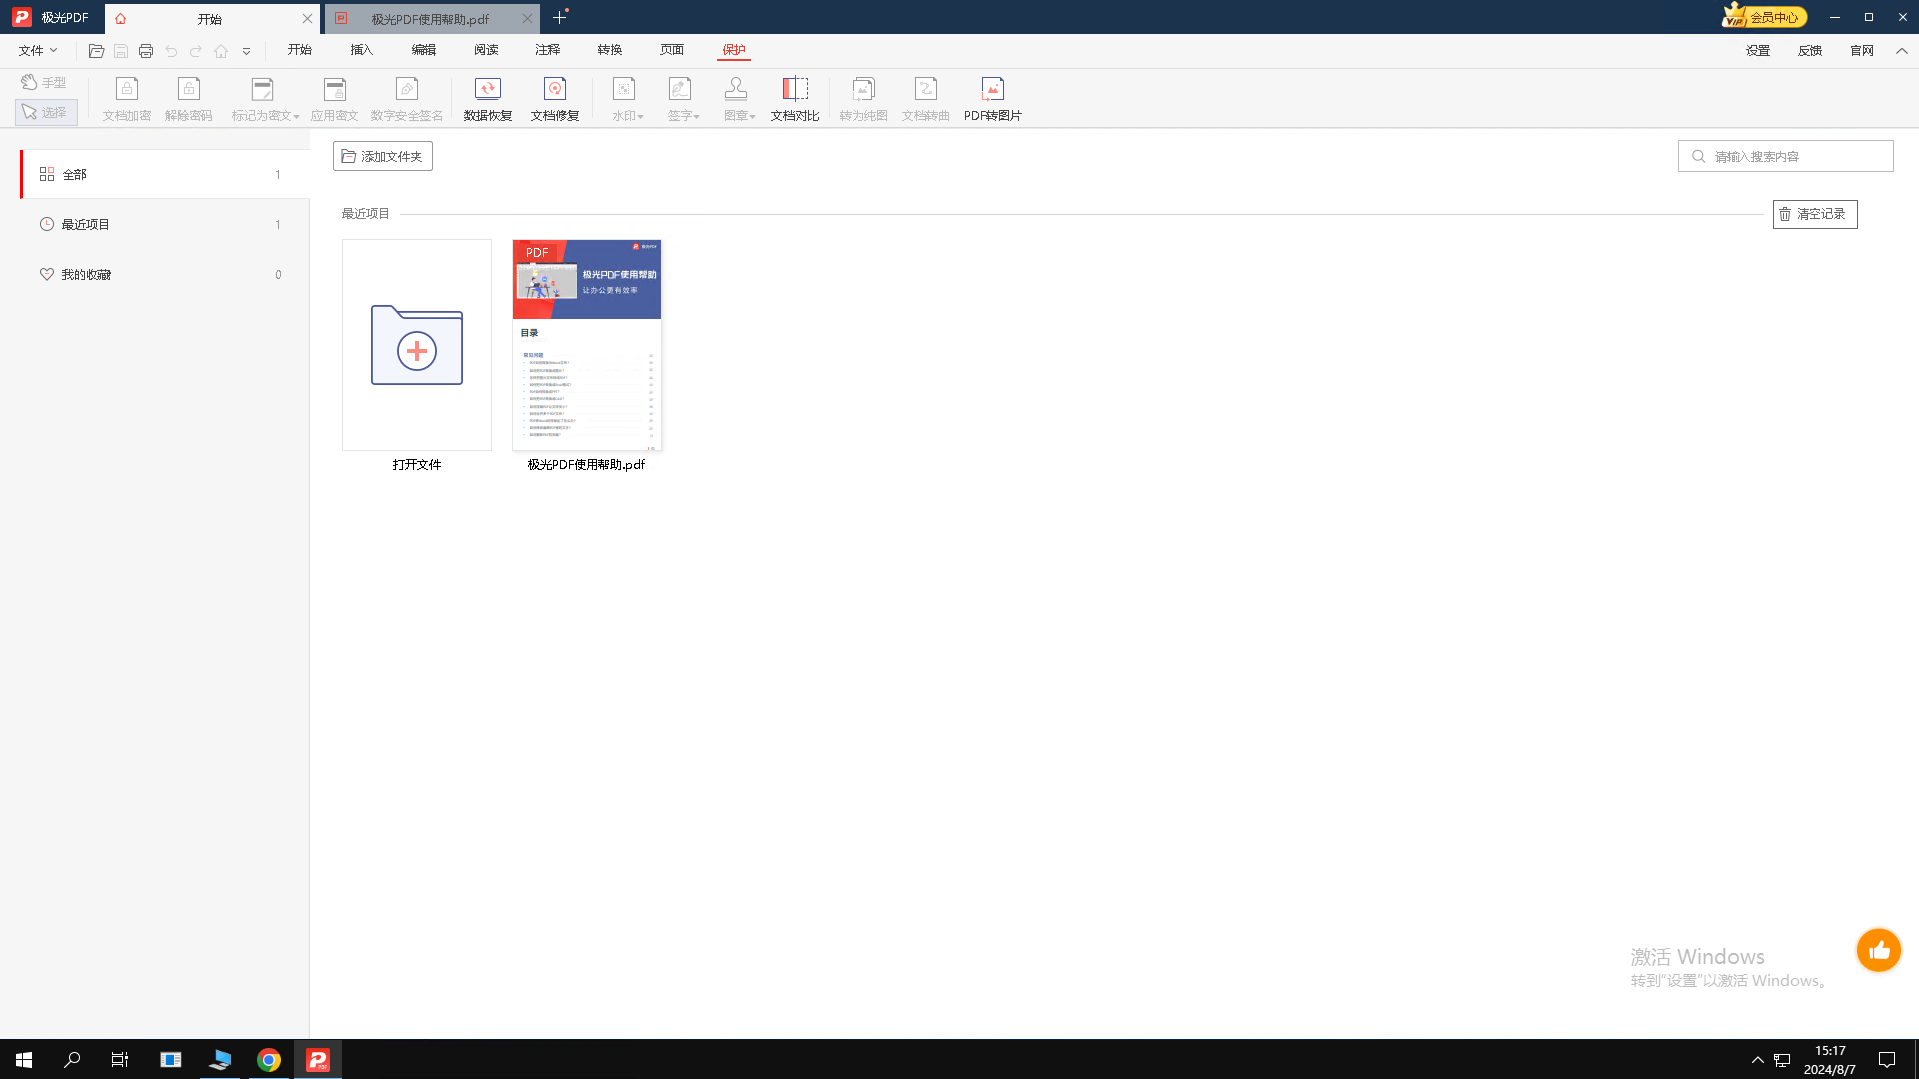Clickable: (336, 233, 496, 457), (509, 237, 666, 457), (9, 149, 306, 202), (12, 252, 301, 300), (12, 207, 306, 246), (1819, 901, 1915, 999), (1676, 137, 1897, 175), (319, 3, 540, 32), (105, 3, 320, 32), (956, 69, 1032, 130), (755, 70, 829, 128), (456, 69, 527, 125), (525, 71, 592, 128), (329, 137, 435, 173), (1771, 191, 1858, 232), (3, 3, 104, 34), (1831, 36, 1914, 70), (1717, 3, 1811, 32), (246, 38, 329, 70), (699, 33, 768, 70), (387, 34, 455, 69), (452, 36, 525, 67), (634, 34, 702, 66), (4, 40, 75, 69), (1778, 33, 1836, 69), (320, 38, 387, 66), (579, 37, 641, 66), (518, 40, 579, 69), (534, 3, 585, 34), (1731, 40, 1789, 66), (1850, 1, 1885, 34), (1810, 1, 1841, 36), (82, 42, 105, 70), (1890, 1, 1911, 29), (134, 41, 158, 65)
Disabled: (358, 67, 455, 128), (895, 61, 961, 132), (217, 71, 302, 126), (824, 65, 894, 130), (86, 75, 159, 133), (701, 67, 764, 132), (159, 66, 223, 126), (297, 69, 361, 125), (590, 70, 652, 126), (648, 71, 705, 130), (4, 99, 84, 132), (7, 69, 76, 100), (104, 33, 138, 72), (206, 36, 241, 72), (156, 33, 185, 66), (179, 38, 210, 69)
Root: (1, 3, 1919, 1036)
level_0: (308, 125, 1919, 1039), (3, 126, 306, 1037), (1, 34, 1916, 126), (4, 3, 1915, 32)
